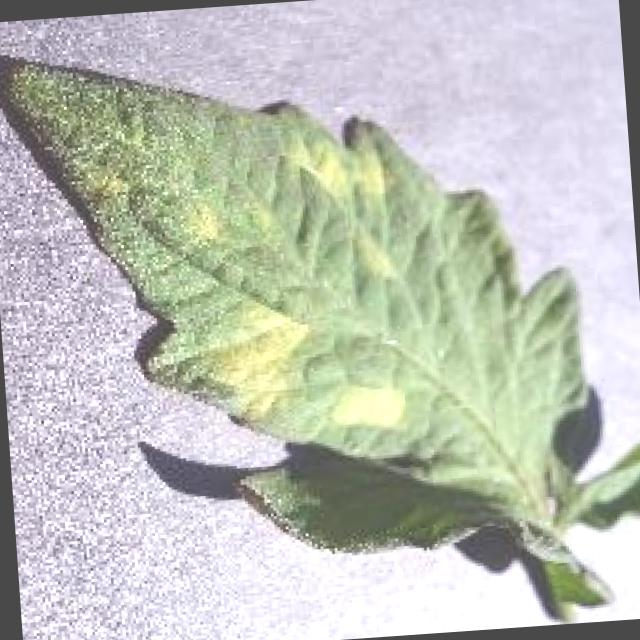leaf mold: (0, 49, 640, 625)
